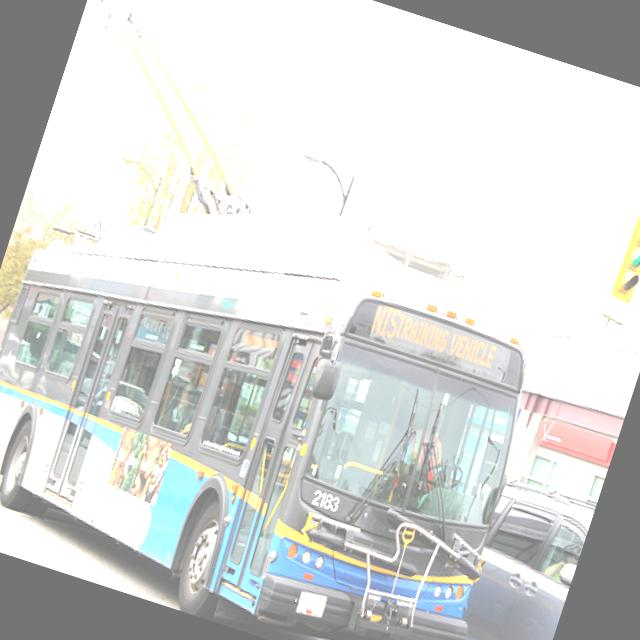Vehicle: (0, 130, 579, 640), (415, 474, 595, 640), (109, 394, 148, 424)
